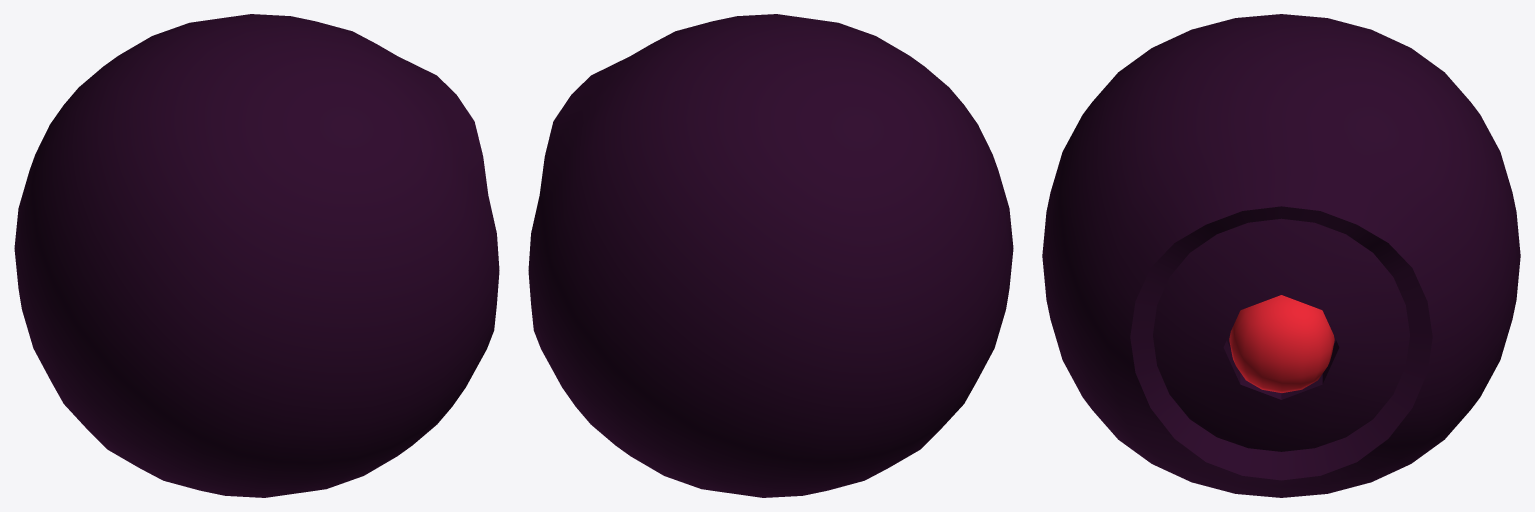
The model's file is EvilEye.fbx.
3 renders of one model, left to right at view 1: azimuth 30°, elevation 25°; view 2: azimuth 150°, elevation 25°; view 3: azimuth 270°, elevation 25°, orthographic.
Parts seen in each view (by area): view 1: Cube.001; view 2: Cube.001; view 3: Cube.001.
Boxes of the visible parts, box(x1,y1,x2,y2) form: Cube.001: box(14, 14, 499, 497); Cube.001: box(528, 14, 1013, 497); Cube.001: box(1042, 14, 1520, 497).
Bounding box in the file's own units: 326 × 322 × 322.
